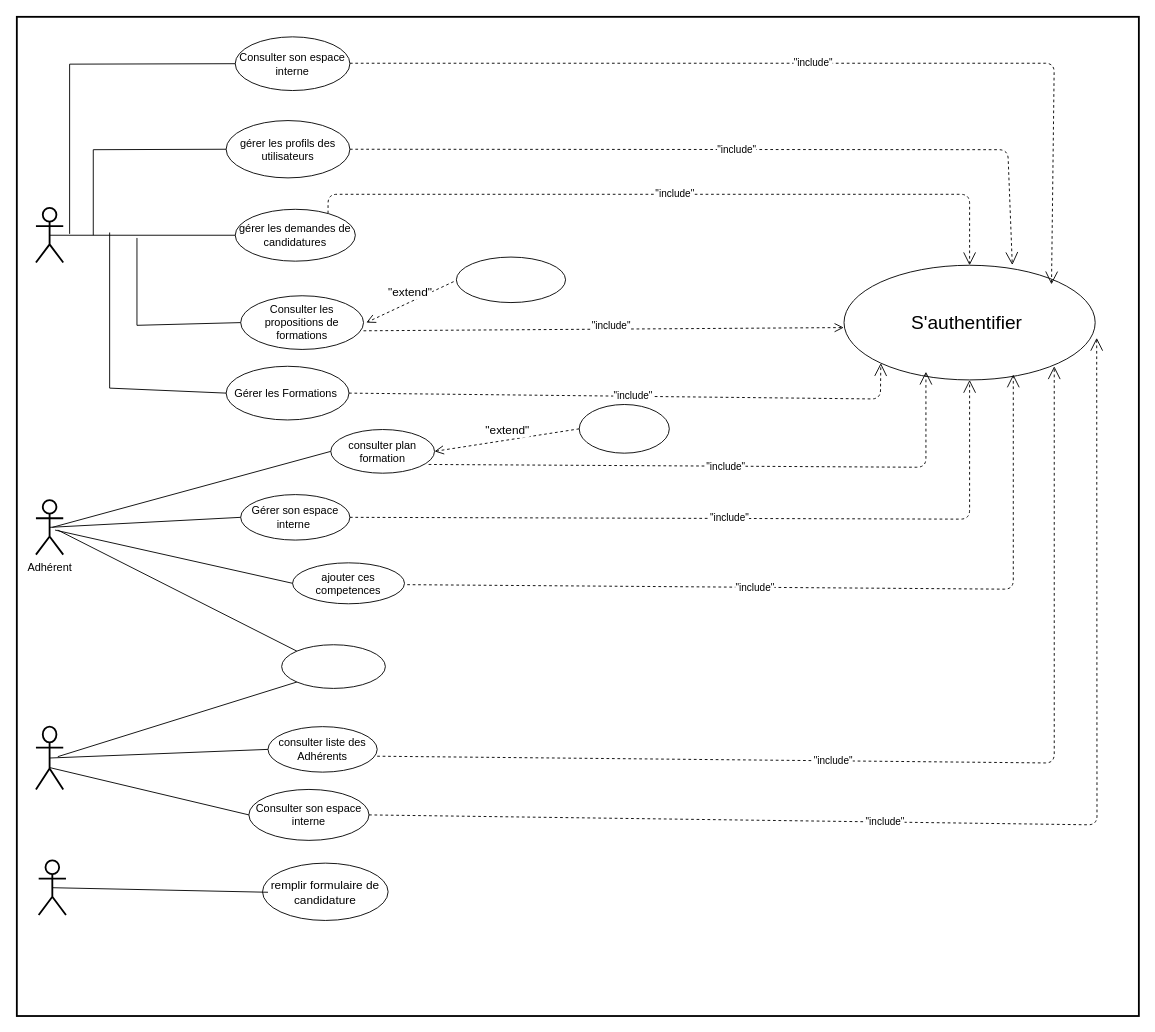
The diagram is 1155 pixels wide and 1032 high, and some of its shapes have lost their labels. Here are the shapes that lost their labels. From the top down, the centre of each, then its label:
the point at 49,235: admin
the point at 510,279: valider une formation
the point at 623,428: Participer a une formation
the point at 333,666: S'inscrire
the point at 49,757: Entreprise
the point at 51,887: Candidat
